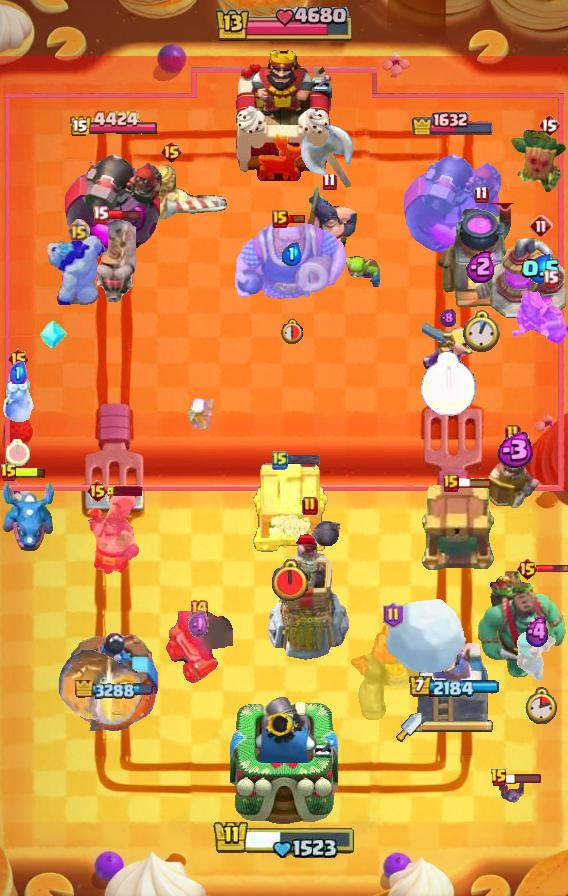arrows: (422, 322, 474, 378)
bar: (416, 637, 490, 731)
barbarian-barrel: (497, 777, 527, 803)
bomb: (250, 459, 330, 553), (421, 484, 499, 572)
cannoneer-tower: (346, 623, 440, 723)
clock: (212, 816, 356, 858), (213, 7, 355, 45)
dirt: (57, 648, 145, 728)
earthquake: (487, 440, 539, 508)
electro-spirit: (493, 432, 536, 468), (521, 254, 561, 284), (467, 249, 498, 283), (523, 616, 553, 648), (189, 610, 212, 639), (282, 242, 303, 266), (9, 361, 27, 384), (440, 308, 456, 328)
elite-barbarian: (92, 219, 136, 305)
elixir: (419, 351, 476, 417), (270, 559, 310, 603), (464, 311, 501, 354), (525, 687, 557, 724), (6, 438, 30, 465), (279, 318, 303, 344)
emote: (106, 207, 142, 220), (11, 466, 47, 479), (457, 477, 493, 489), (506, 772, 542, 784), (285, 455, 321, 466), (106, 486, 142, 496), (536, 564, 568, 574), (286, 213, 306, 224)
giant-skeleton: (233, 215, 349, 305)
goblin-barrel: (510, 129, 568, 197)
graveyard: (0, 477, 58, 553)
heal-spirit: (187, 397, 215, 429)
hunter: (436, 203, 526, 311)
ice-golem: (1, 372, 35, 424)
king-tower: (230, 692, 338, 826), (232, 45, 336, 181)
king-tower-bar: (422, 720, 494, 734)
lava-hound: (476, 567, 568, 679)
monk: (86, 488, 142, 576), (298, 181, 360, 259)
pad_2: (39, 317, 67, 351)
pekka: (490, 238, 568, 320)
queen-tower: (68, 633, 160, 731)
rage: (45, 235, 111, 305)
ram-rider: (114, 162, 228, 232)
royal-giant: (298, 122, 356, 194)
royal-giant-evolution: (165, 611, 233, 685)
selected: (69, 110, 159, 139), (411, 109, 495, 135), (409, 676, 500, 700), (75, 679, 153, 700)
tesla-evolution: (510, 288, 568, 348)
text: (529, 214, 553, 238), (383, 602, 405, 628), (161, 140, 184, 164), (6, 347, 29, 371), (86, 479, 109, 503), (516, 557, 539, 581), (67, 218, 90, 241), (538, 113, 560, 137), (189, 599, 209, 619), (0, 463, 18, 483), (490, 768, 508, 788), (541, 269, 559, 287), (91, 204, 108, 223), (505, 424, 521, 444), (272, 450, 288, 470), (302, 496, 318, 516), (272, 210, 288, 228), (443, 474, 459, 492), (475, 185, 490, 203), (323, 173, 337, 191)
tower-bar: (64, 138, 164, 256), (403, 138, 503, 256)
wall-breaker: (383, 597, 467, 675)
witch: (515, 631, 561, 683)
zap: (342, 254, 384, 296)
zappy: (266, 520, 354, 664)
